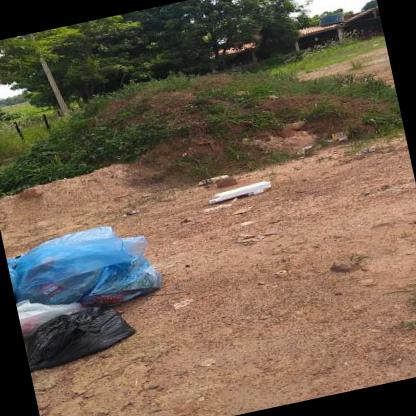lixo: (3, 211, 180, 378)
